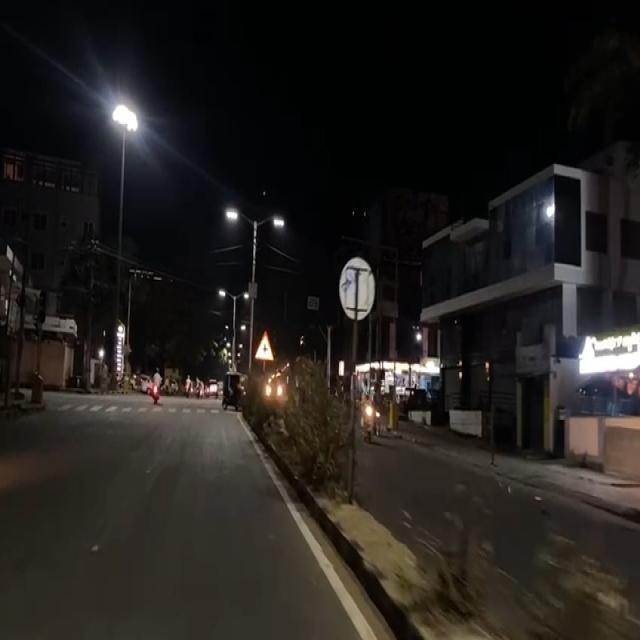bien_cam: (253, 325, 274, 363)
